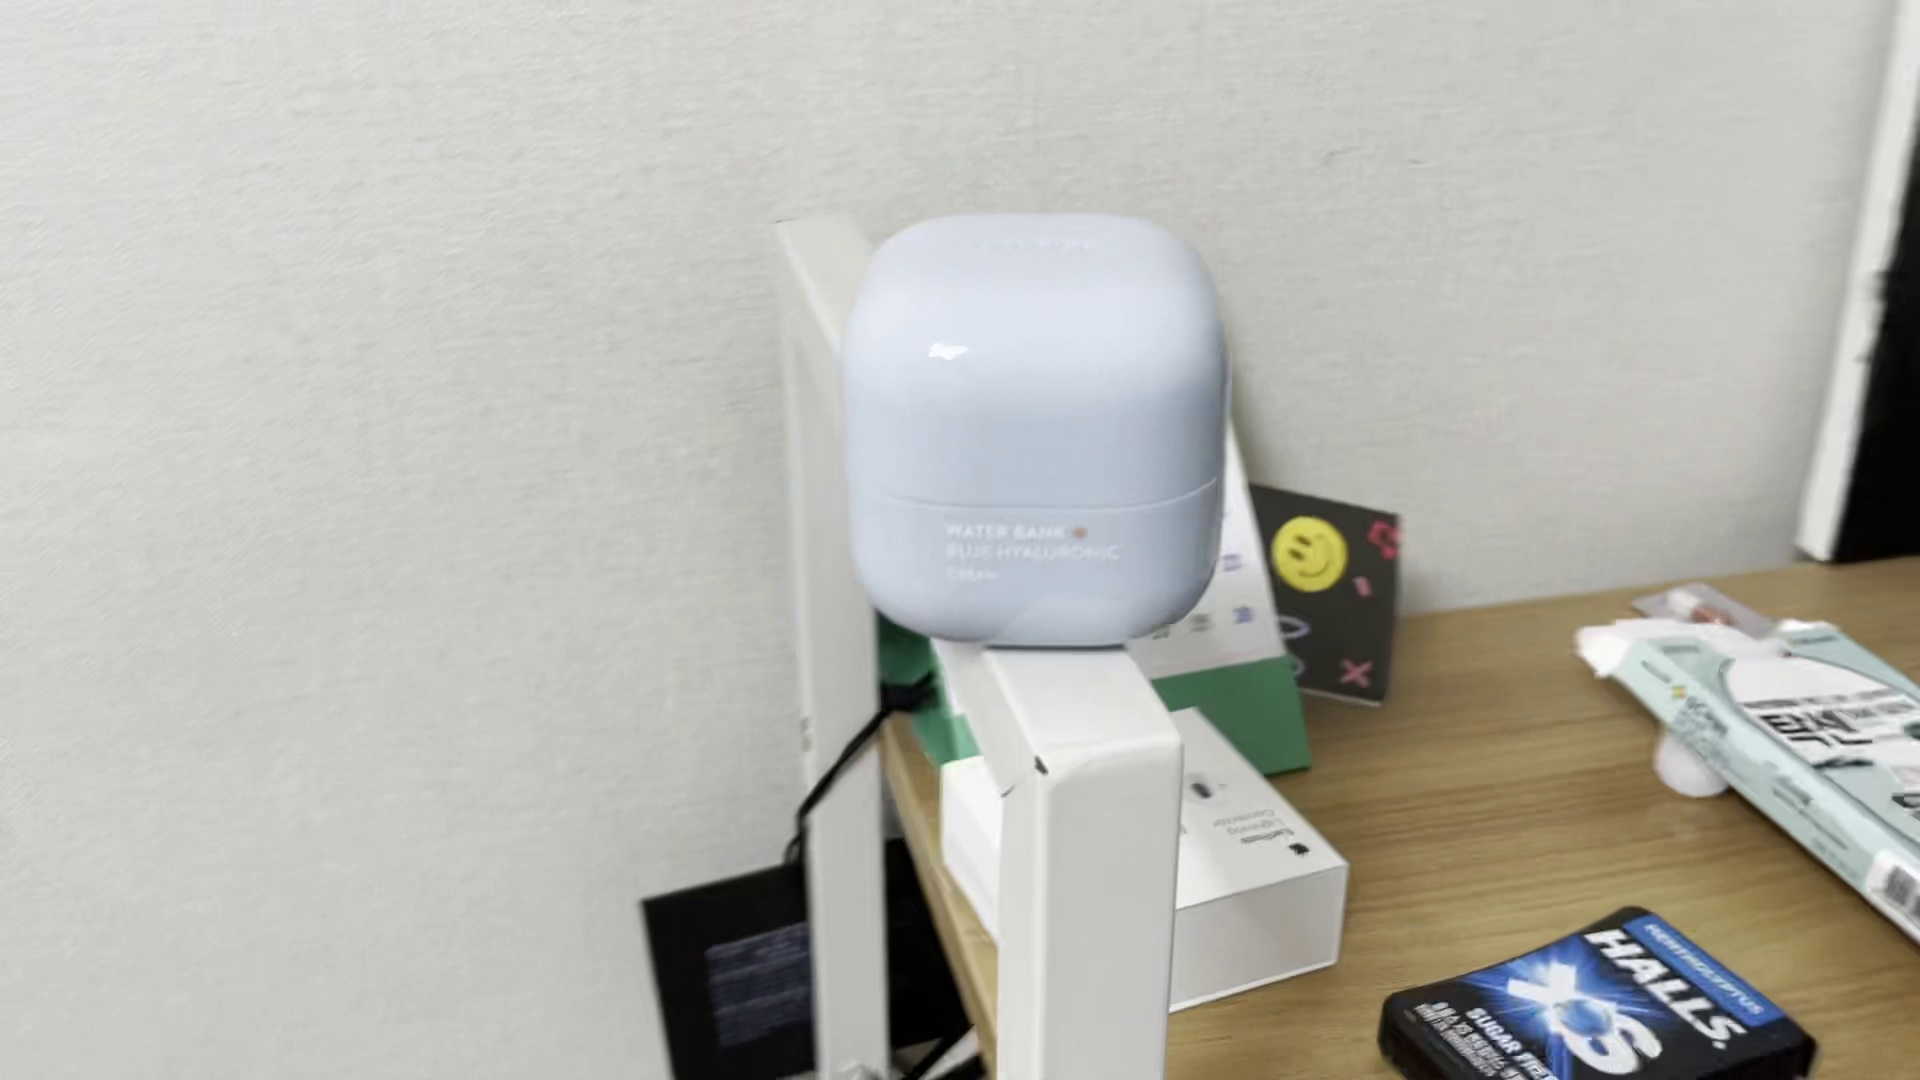cream: (848, 218, 1224, 647)
